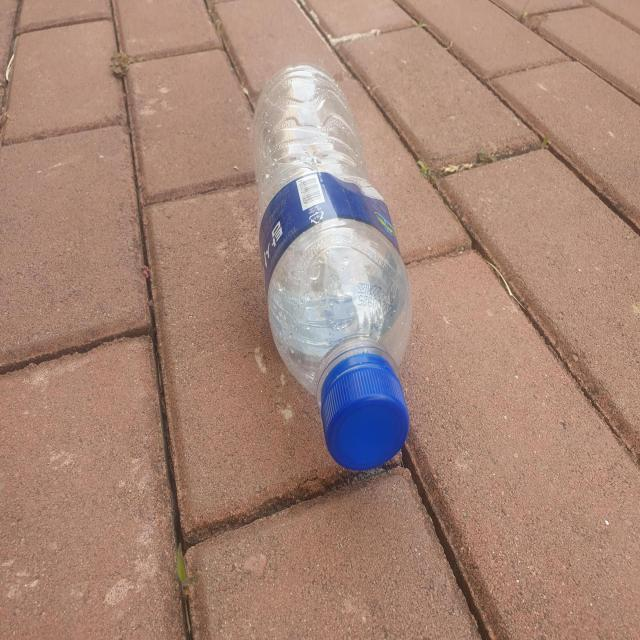plastic: (254, 63, 412, 471)
